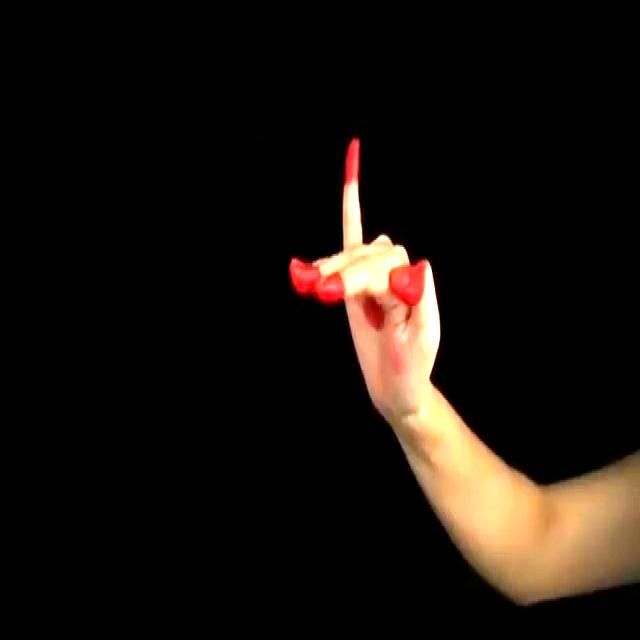Hamsapaksha: (282, 107, 470, 439)
